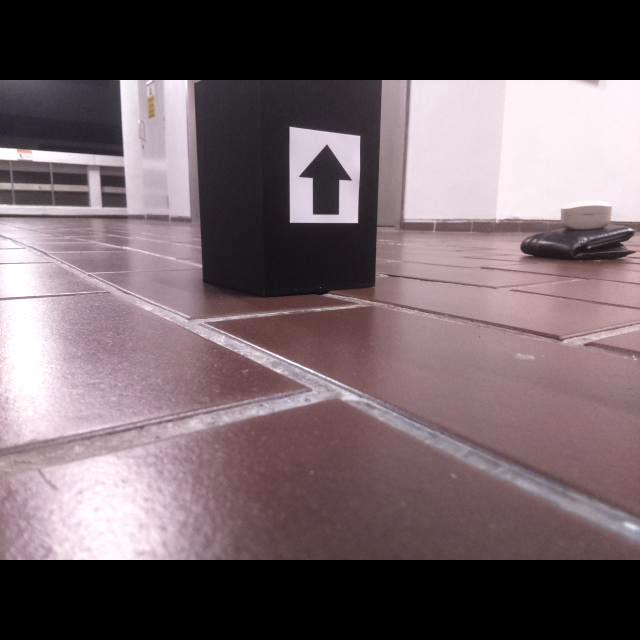UP: (298, 143, 353, 216)
